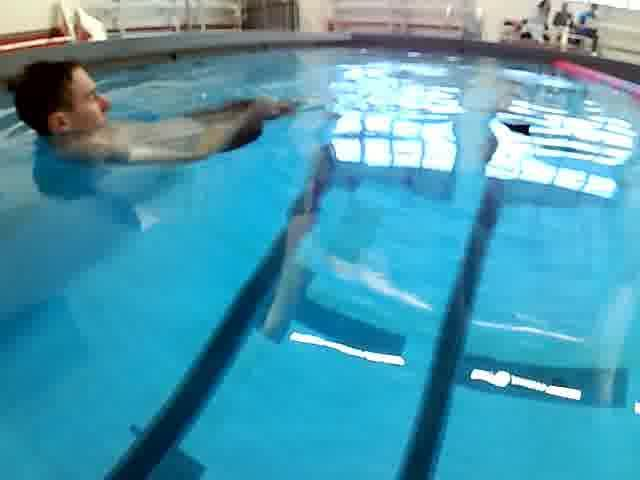CamMount: (500, 114, 536, 136)
